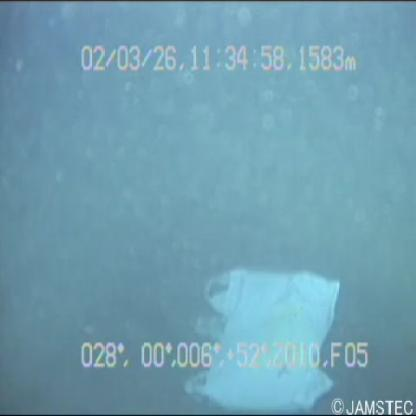Rác: (184, 225, 334, 416)
